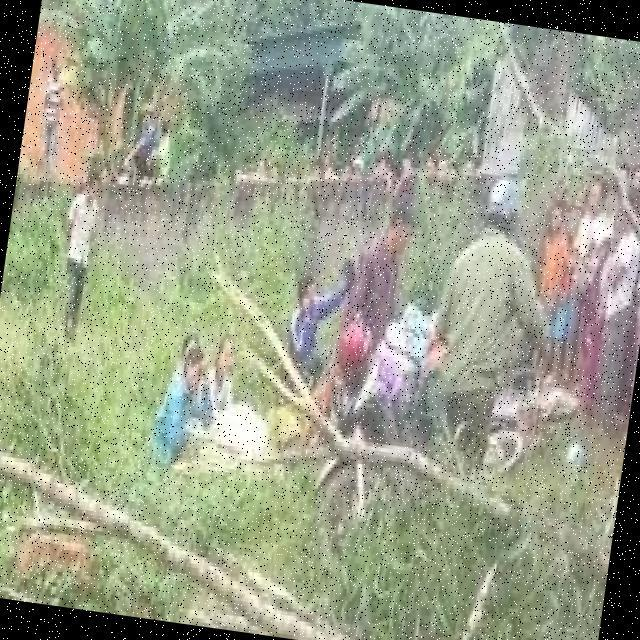fallen_object: (181, 237, 640, 640), (0, 385, 224, 625)
